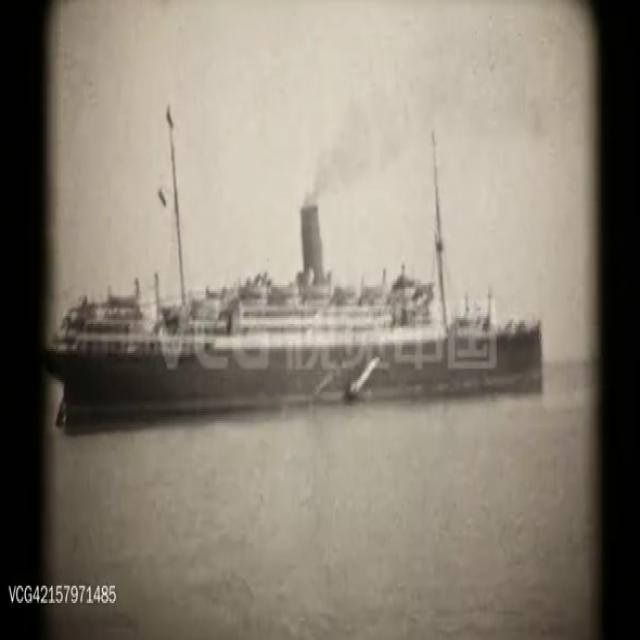passenger ship: (48, 200, 545, 415)
